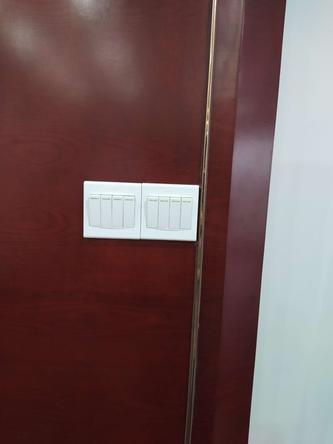switch: (110, 195, 122, 230), (122, 196, 134, 228), (147, 197, 159, 229), (89, 194, 100, 227), (159, 197, 170, 230), (170, 197, 181, 230), (182, 198, 193, 230), (101, 194, 111, 229)
